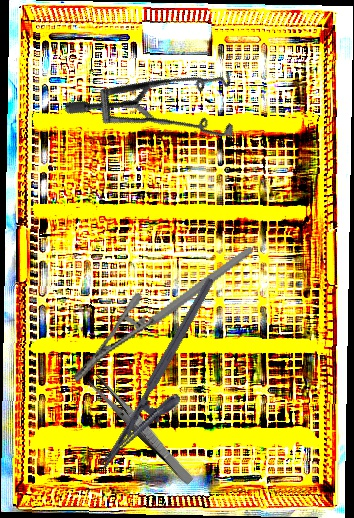Dressing Forceps: (86, 371, 198, 487)
Needle Holder: (52, 246, 275, 384), (98, 276, 241, 485)
Speculum: (62, 7, 261, 195)
